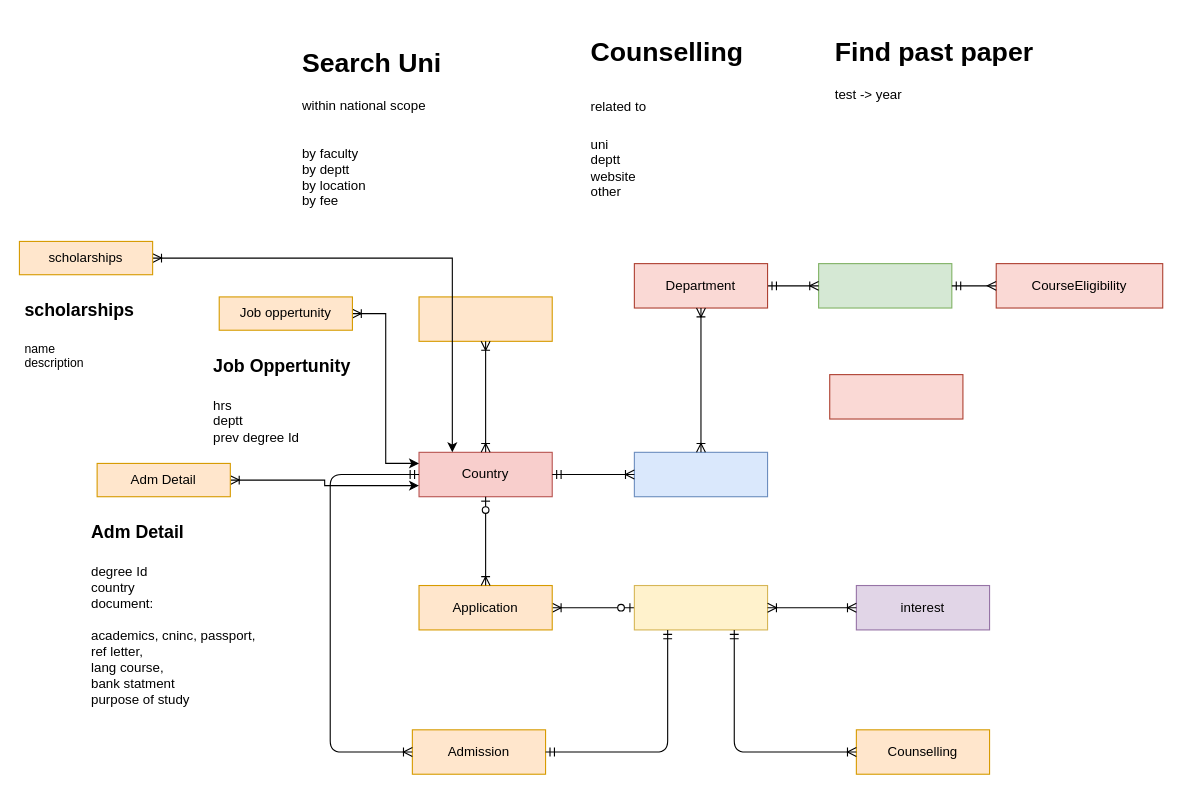
Some shapes in this 1182 by 794 pixel diagram are drawn without their labels. The shapes that lost their labels are listed below. From the top down, each one's box as (x1, y1, x2, y2) in pixels, then its label:
(818, 263, 952, 308): Course
(418, 296, 552, 341): visa requirement
(829, 374, 963, 419): past papers
(633, 451, 768, 497): University
(633, 584, 768, 630): Student
